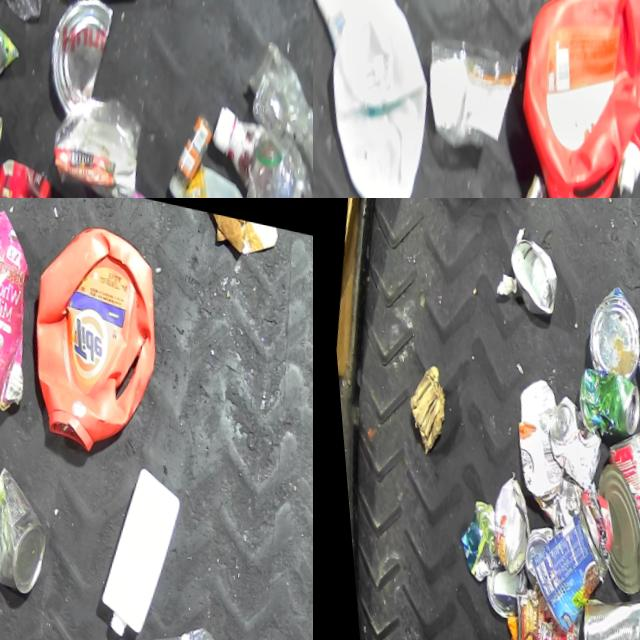can: (509, 496, 613, 639), (0, 449, 59, 612), (572, 457, 640, 592), (583, 415, 640, 557), (533, 388, 605, 489), (573, 274, 640, 374), (474, 469, 533, 578), (567, 360, 640, 439), (497, 226, 562, 313), (493, 583, 580, 640), (560, 581, 640, 640), (470, 556, 522, 621), (616, 286, 640, 426), (509, 518, 549, 588)
milk_jug: (313, 0, 446, 198), (127, 147, 264, 198)
non_white_jug: (0, 206, 179, 467), (484, 0, 640, 198), (0, 139, 58, 198)
plastic_bottle: (222, 33, 313, 198), (94, 586, 251, 640)
